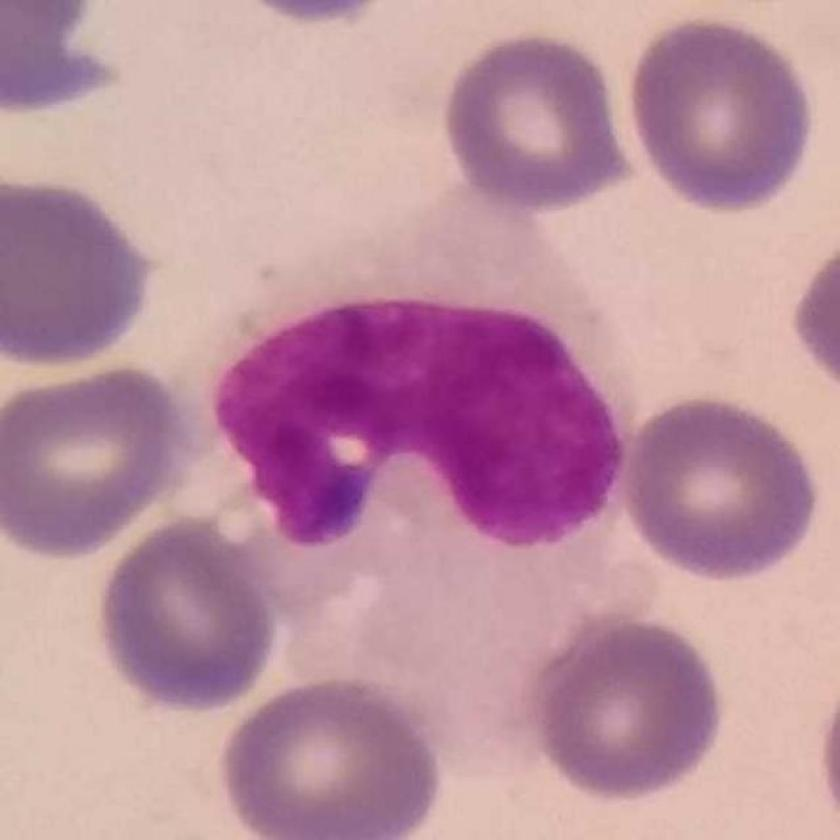monocyte: (173, 161, 656, 735)
